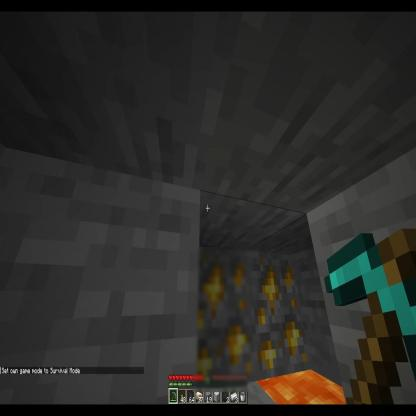gold ore: (193, 247, 254, 392), (252, 249, 306, 388)
